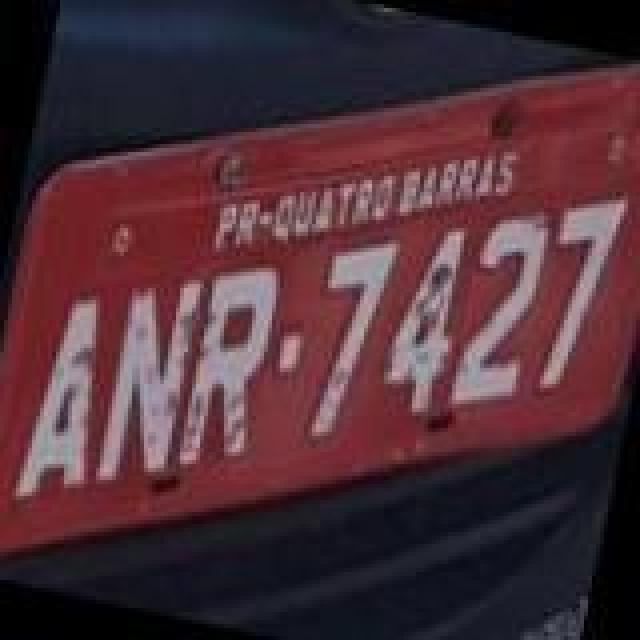2: (444, 204, 556, 420)
4: (372, 218, 476, 422)
7: (288, 224, 400, 448), (524, 184, 628, 400)
A: (8, 286, 120, 514)
N: (92, 262, 204, 498)
R: (172, 256, 284, 480)
